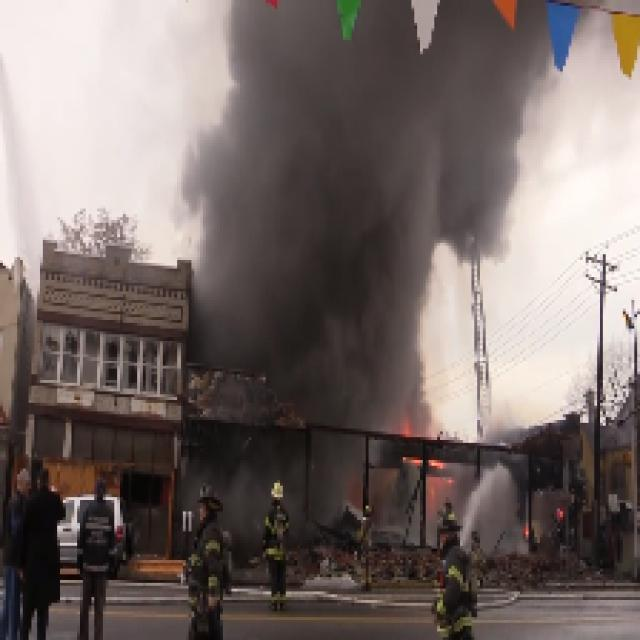Smoke: (200, 54, 437, 354), (448, 71, 580, 252), (306, 363, 400, 460)
